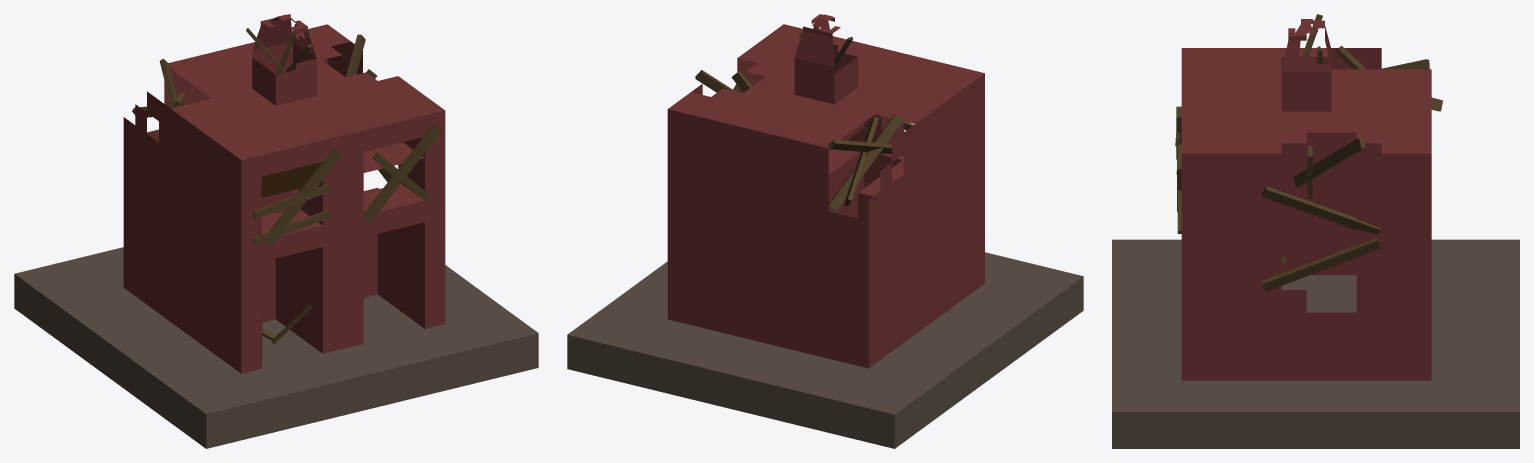
Rendered from fire-0.glb.
3 renders of one model, left to right at view 1: azimuth 30°, elevation 25°; view 2: azimuth 150°, elevation 25°; view 3: azimuth 270°, elevation 25°, orthographic. The views are drawn at different scales.
Parts seen in each view (by area): view 1: Grid.100; view 2: Grid.100; view 3: Grid.100.
Part boxes in pixels (x1,y1,x2,y2): Grid.100: [14, 14, 538, 448]; Grid.100: [567, 14, 1083, 448]; Grid.100: [1112, 14, 1519, 448].
Bounding box in the file's own units: 1 × 0.9287 × 1.
